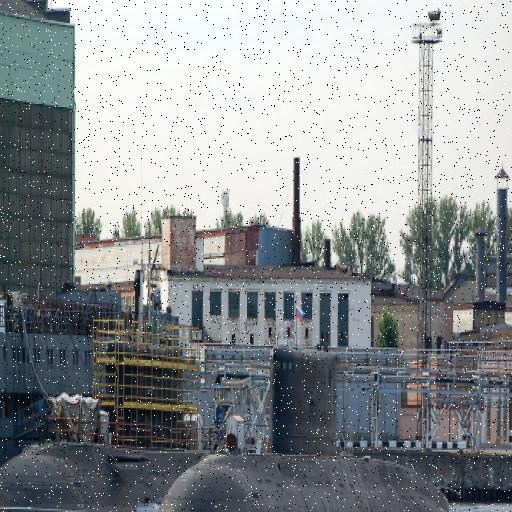submarine: (168, 347, 454, 511), (1, 443, 210, 512)
